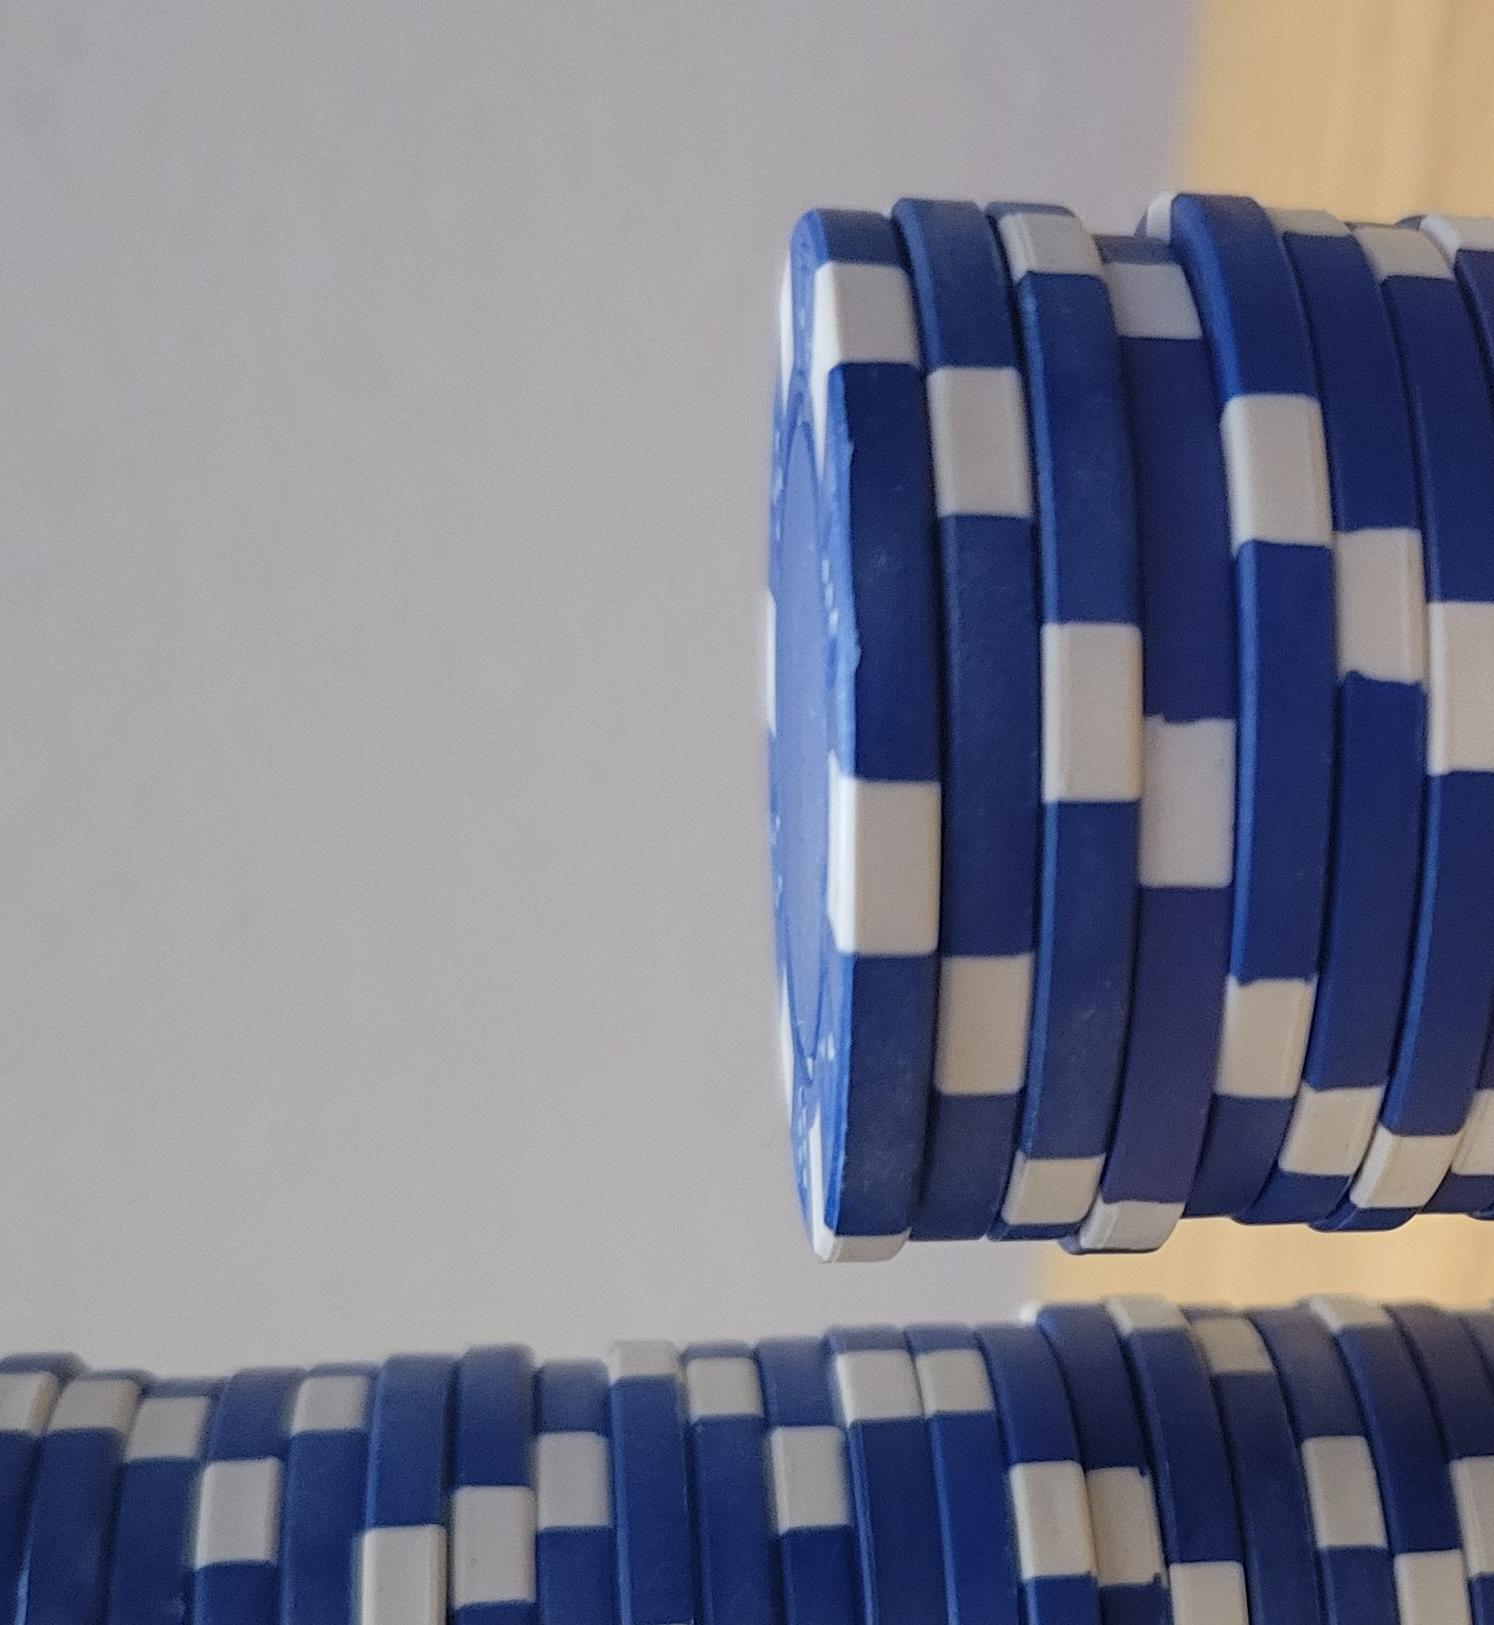Chip: (1, 98, 983, 1625)
